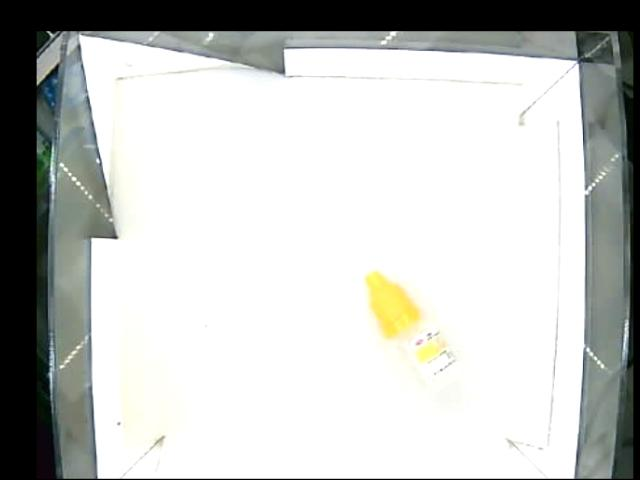Bottle: (364, 269, 459, 388)
